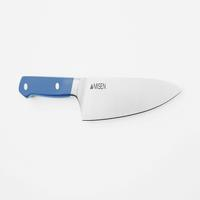knife: (13, 67, 190, 124)
